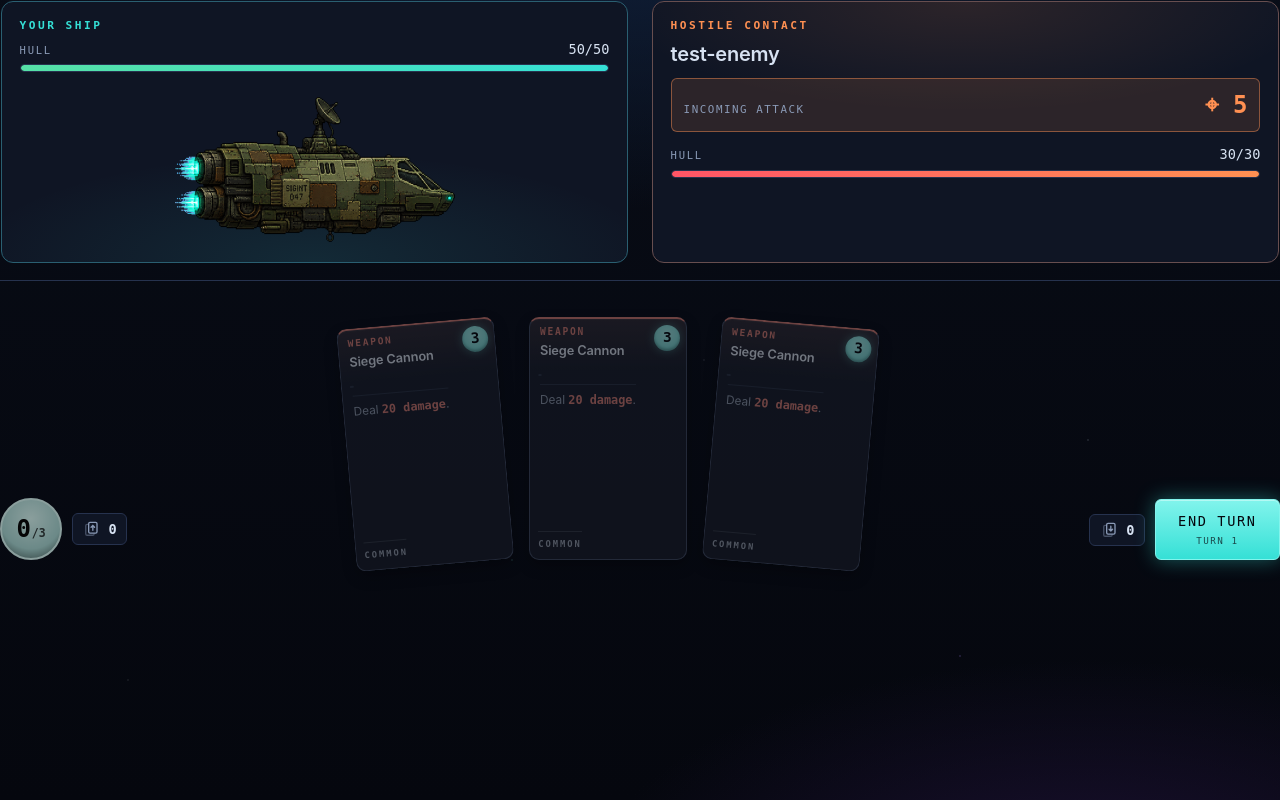
BattleScreen — a card you cannot afford › still opens its upgrade preview on right-click
This screenshot has width=1280, height=800.
Right-click the 1st button "Weapon 3 Siege Cannon Deal 20 damage. Common" at (426, 444), box [336,316,515,572]
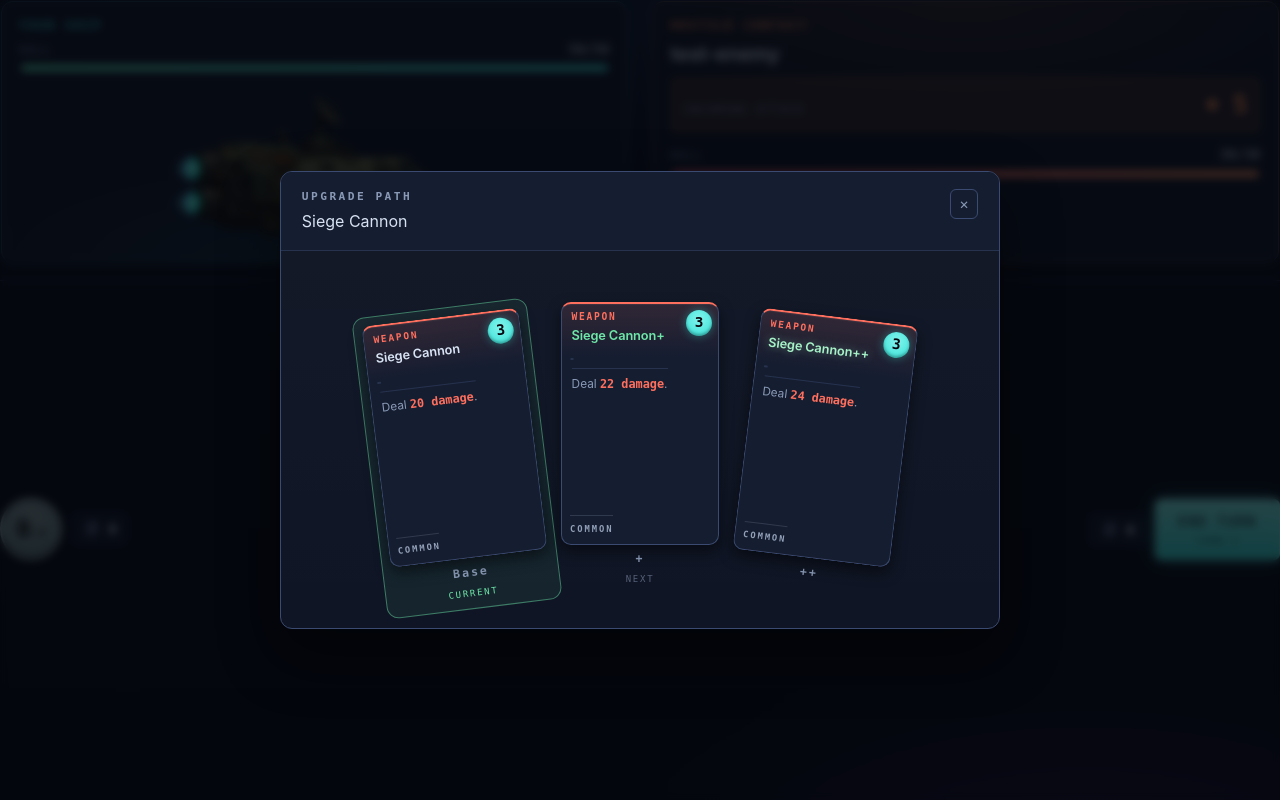
Check: the dialog "Upgrade path" is shown
